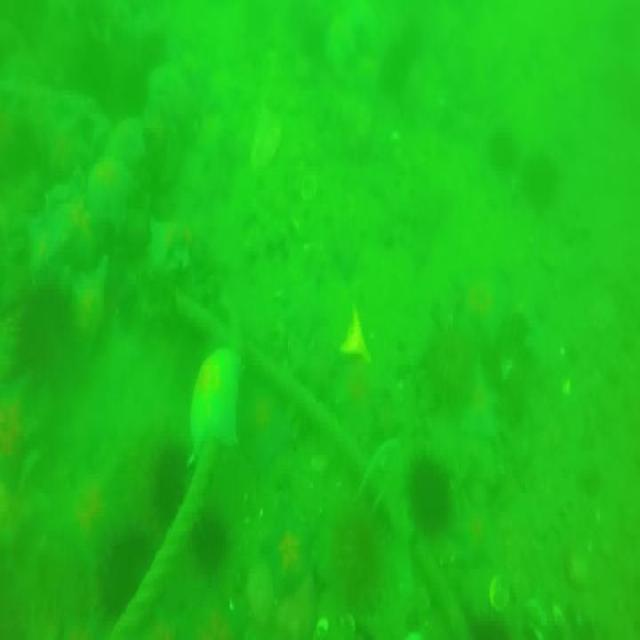echinus: (16, 276, 72, 396), (149, 436, 191, 533), (101, 531, 150, 612), (412, 462, 452, 532), (517, 152, 559, 216), (190, 517, 228, 578), (489, 130, 518, 169)
scallop: (489, 570, 510, 616), (339, 613, 357, 640), (315, 616, 329, 640)
starfish: (262, 493, 314, 601), (88, 139, 135, 239)
